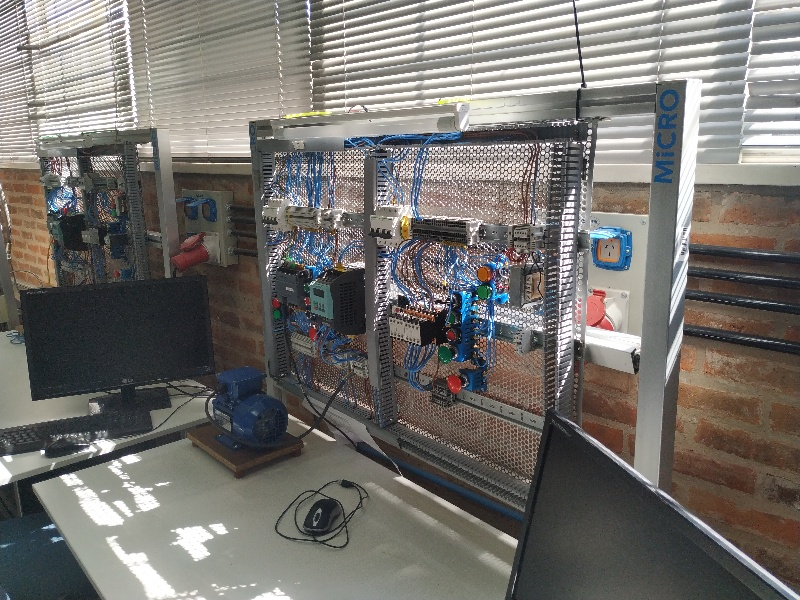Tablero 2: (253, 148, 583, 496)
